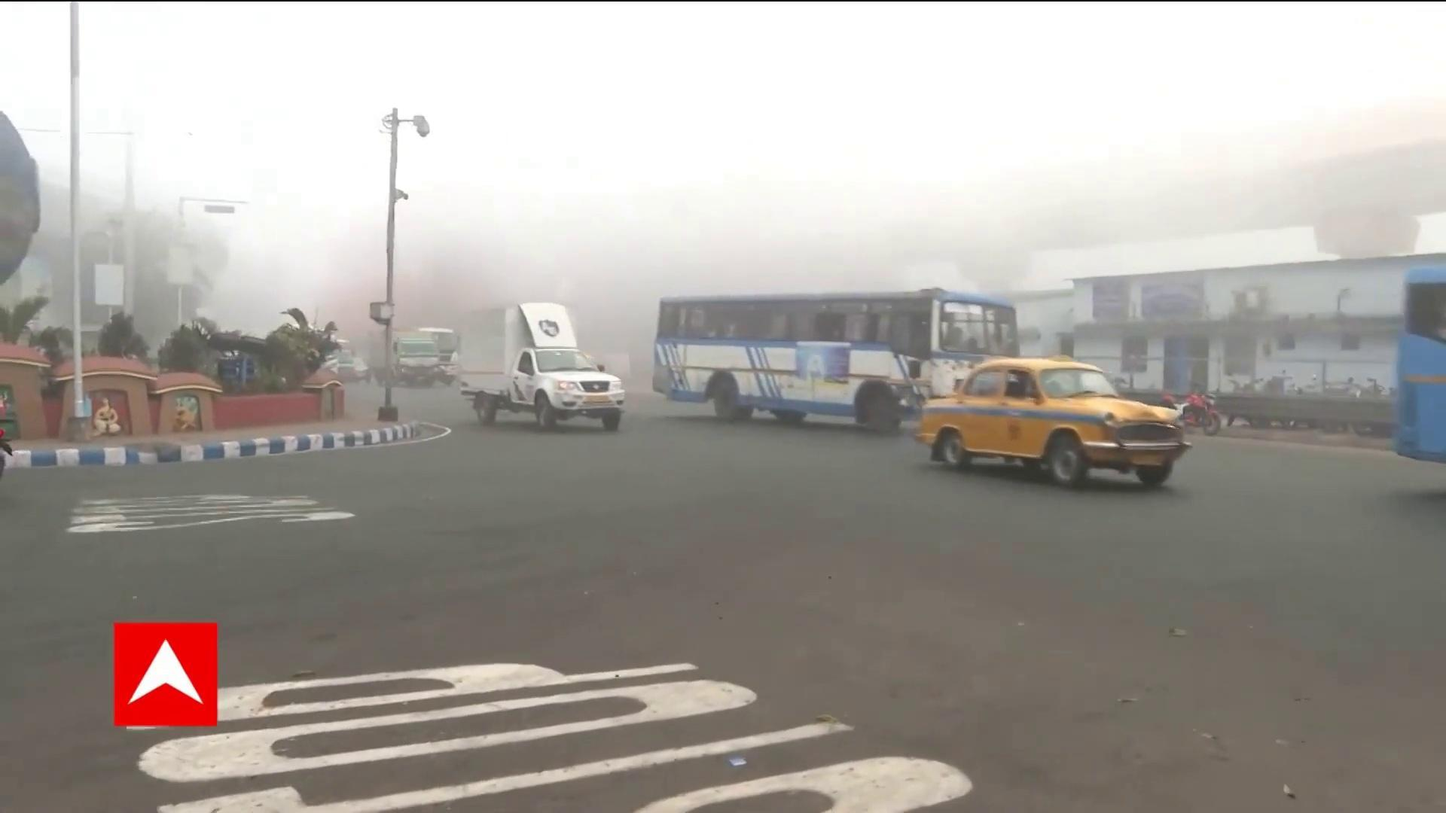Bus: (651, 291, 1024, 437)
Car: (914, 356, 1192, 487)
Truck: (457, 300, 627, 432)
